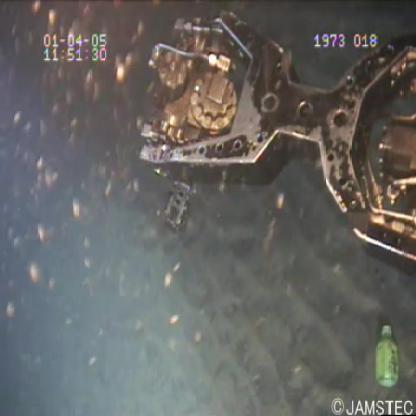Rov: (134, 7, 415, 276)
Rác: (372, 322, 402, 390)
